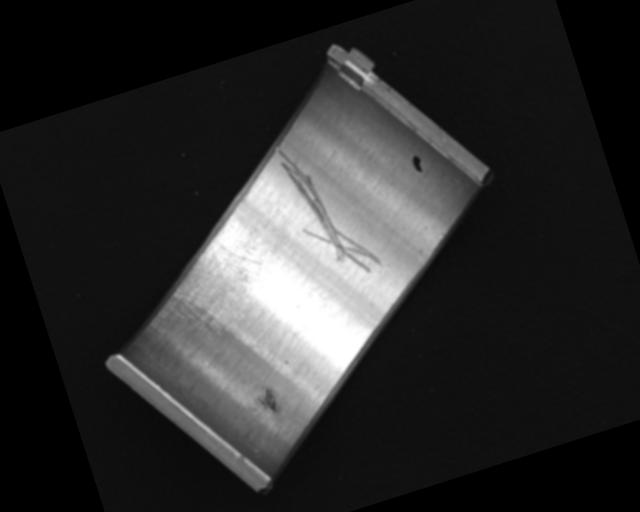blot: (409, 151, 426, 175)
bruise: (254, 383, 281, 417)
nick: (272, 121, 384, 289)
scratch: (133, 224, 288, 354)
